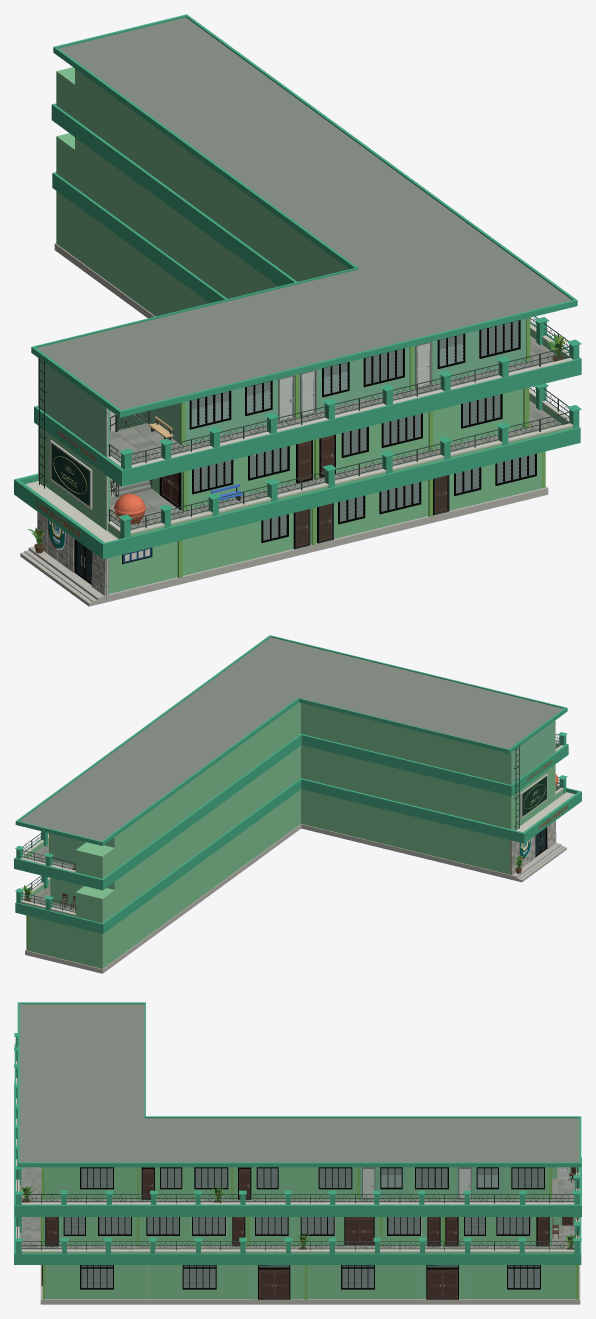
Rendered from laboratorium_outdoor.glb.
The picture shows the model from 3 angles, top to bottom: view 1: azimuth 30°, elevation 25°; view 2: azimuth 150°, elevation 25°; view 3: azimuth 270°, elevation 25°; orthographic projection. The views are drawn at different scales.
Visible parts, largest first — view 1: L2_Pelat_ruang.003, L2_Balok_fasad_utama, Kanopi_utama_papan_nama, L2_Partisi_perkiraan_X12.009, L3_Balok_fasad_utama, L2_Partisi_perkiraan_X12.006, L2_Partisi_perkiraan_X12.010, Tangga_masuk_1, L1_B01_Dinding_dengan_bukaan, L3_Fasad_depan_bagian_logo, L2_B05_Dinding_dengan_bukaan.001, L3_B03_Bukaan_2_jalusi_open_Kusen (+23 smaller); view 2: L2_Pelat_ruang.003, L2_Dinding_belakang_inti, L2_Partisi_perkiraan_X12.010, L2_Balok_fasad_utama, Kanopi_utama_papan_nama, L2_Partisi_perkiraan_X12.009, L2_Partisi_perkiraan_X12.006, L3_Balok_fasad_utama, Tangga_masuk_1, L2_B07_Bukaan_1_jalusi_Daun_jalusi_2.011, L3_Fasad_depan_bagian_logo, L2_Dinding_annex_belakang (+7 smaller); view 3: L2_Pelat_ruang.003, L2_Balok_fasad_utama, Kanopi_utama_papan_nama, L3_Balok_fasad_utama, L2_B07_Bukaan_1_jalusi_Daun_jalusi_2.010, L2_B07_Bukaan_1_jalusi_Daun_jalusi_2.011, L2_B07_Bukaan_1_jalusi_Daun_jalusi_2.008, L2_B07_Bukaan_1_jalusi_Daun_jalusi_2.009, Tangga_masuk_1, L2_B07_Bukaan_1_jalusi_Daun_jalusi_2.007, L2_B07_Bukaan_1_jalusi_Daun_jalusi_2.004, L2_B04_Dinding_dengan_bukaan.004 (+27 smaller).
Boxes of the visible parts, box(x1,y1,x2,y2) form: L2_Pelat_ruang.003: box(37, 17, 571, 410); L2_Balok_fasad_utama: box(34, 103, 581, 486); Kanopi_utama_papan_nama: box(14, 172, 580, 559); L2_Partisi_perkiraan_X12.009: box(75, 69, 348, 281); L3_Balok_fasad_utama: box(31, 14, 577, 417); L2_Partisi_perkiraan_X12.006: box(75, 137, 278, 298); L2_Partisi_perkiraan_X12.010: box(58, 193, 209, 316); Tangga_masuk_1: box(28, 243, 548, 604); L1_B01_Dinding_dengan_bukaan: box(108, 522, 255, 593); L3_Fasad_depan_bagian_logo: box(38, 358, 110, 457); L2_B05_Dinding_dengan_bukaan.001: box(433, 389, 523, 449); L3_B03_Bukaan_2_jalusi_open_Kusen: box(239, 375, 295, 431); L2_Pelat_ruang.003: box(19, 637, 563, 841); L2_Dinding_belakang_inti: box(301, 703, 509, 874); L2_Partisi_perkiraan_X12.010: box(104, 789, 300, 967); L2_Balok_fasad_utama: box(14, 734, 568, 890); Kanopi_utama_papan_nama: box(15, 778, 581, 933); L2_Partisi_perkiraan_X12.009: box(113, 702, 300, 869); L2_Partisi_perkiraan_X12.006: box(113, 746, 300, 913); L3_Balok_fasad_utama: box(15, 635, 567, 845); Tangga_masuk_1: box(25, 824, 561, 973); L2_B07_Bukaan_1_jalusi_Daun_jalusi_2.011: box(28, 916, 103, 968); L3_Fasad_depan_bagian_logo: box(510, 721, 555, 784); L2_Dinding_annex_belakang: box(77, 886, 114, 923); L2_Pelat_ruang.003: box(19, 1004, 579, 1162); L2_Balok_fasad_utama: box(14, 1043, 581, 1216); Kanopi_utama_papan_nama: box(14, 1087, 581, 1264); L3_Balok_fasad_utama: box(17, 1002, 581, 1167); L2_B07_Bukaan_1_jalusi_Daun_jalusi_2.010: box(298, 1265, 418, 1299); L2_B07_Bukaan_1_jalusi_Daun_jalusi_2.011: box(466, 1265, 575, 1299); L2_B07_Bukaan_1_jalusi_Daun_jalusi_2.008: box(45, 1265, 147, 1299); L2_B07_Bukaan_1_jalusi_Daun_jalusi_2.009: box(148, 1265, 249, 1299); Tangga_masuk_1: box(40, 1265, 580, 1304); L2_B07_Bukaan_1_jalusi_Daun_jalusi_2.007: box(45, 1167, 136, 1199); L2_B07_Bukaan_1_jalusi_Daun_jalusi_2.004: box(283, 1167, 356, 1199); L2_B04_Dinding_dengan_bukaan.004: box(491, 1217, 551, 1246).
Bounding box in the file's own units: 26.53 × 10.71 × 37.71.
Materials: 612 (1 with a texture image).
